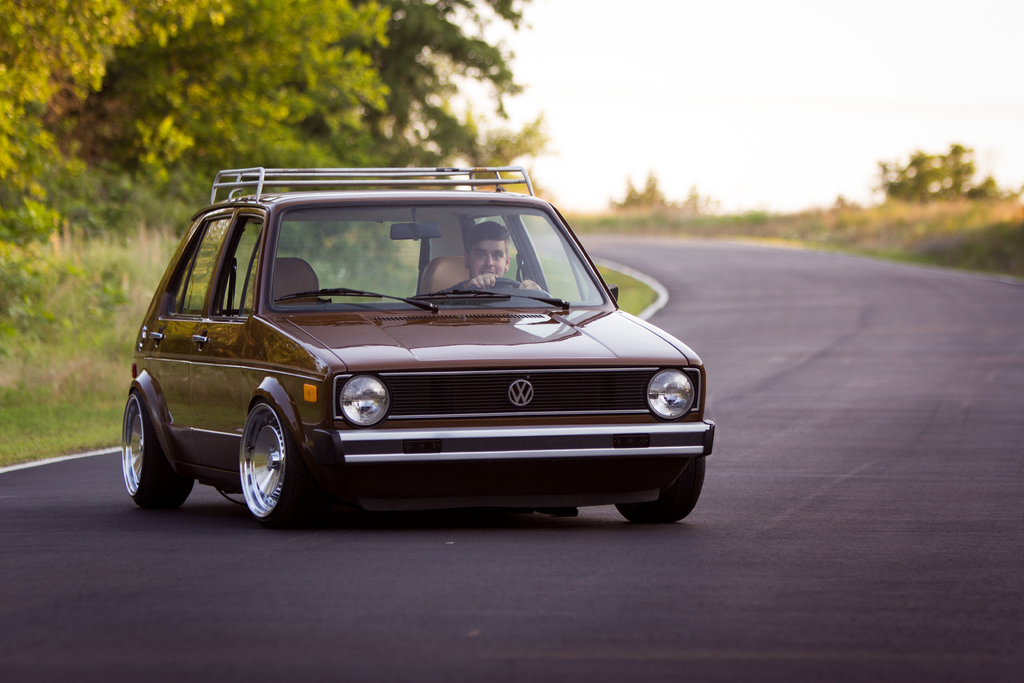Tree: (0, 0, 556, 364), (870, 144, 1024, 209)
